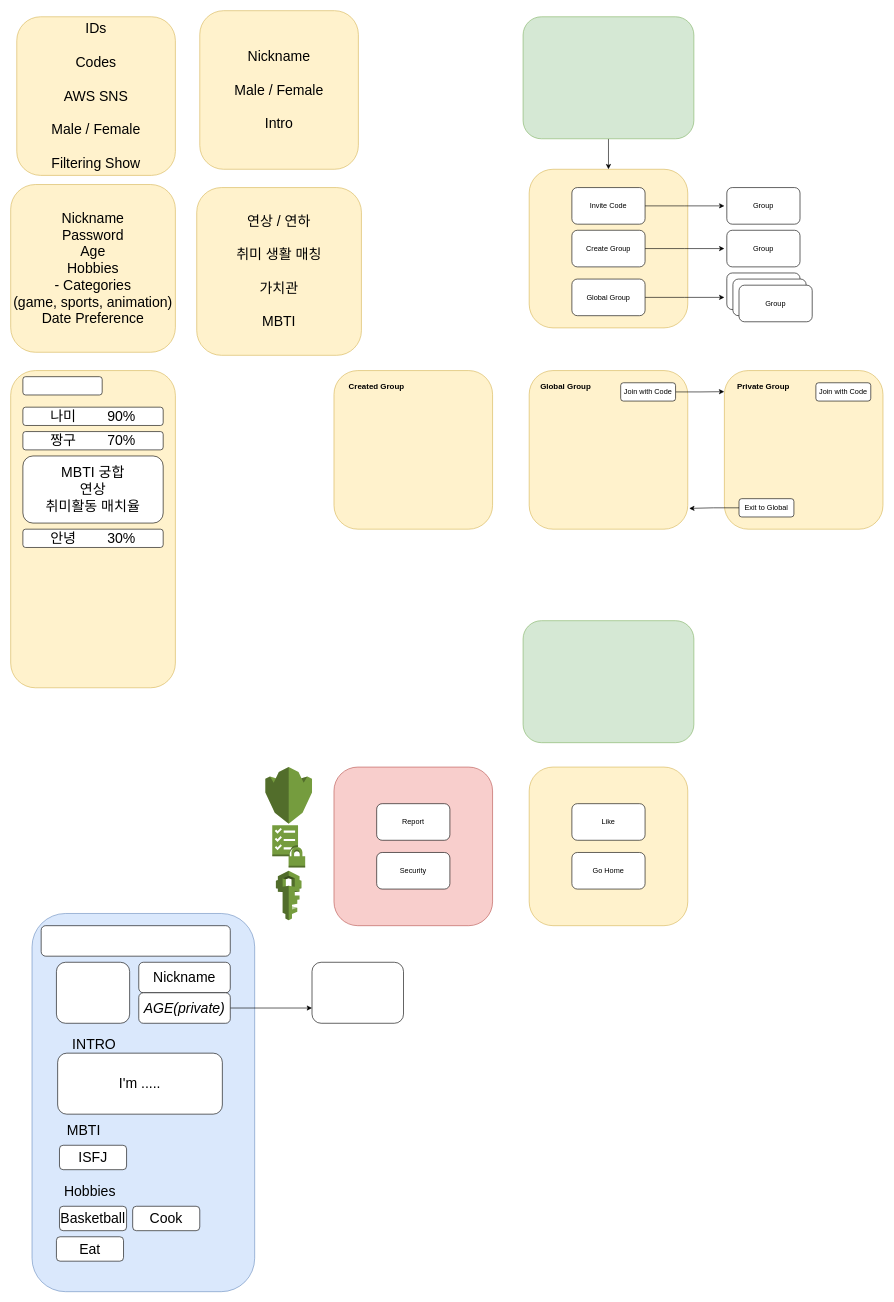
Image size: 894x1302. Some labels were removed from this diagram. The centre of each missing label's shape, as x and y in pixels:
Algorithm Range (_) -- Show only: the point at 357,992
Apply List: the point at 62,385
Blind Date Platform: the point at 608,77
Img: the point at 93,992
Preference Match Rate: 70%: the point at 135,940
Stream Service AWS Call: the point at 608,681
